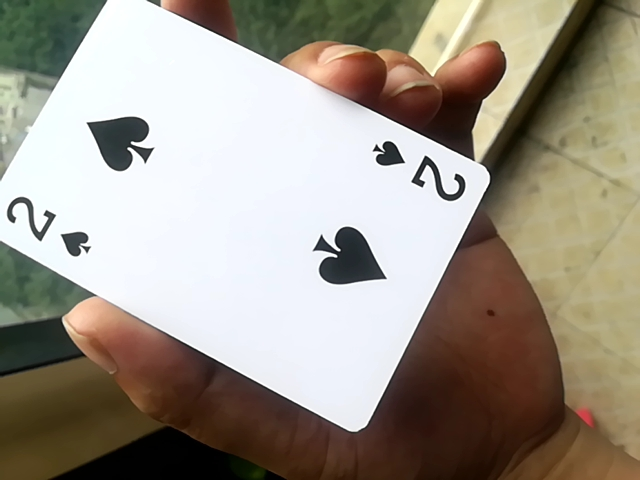ht 2: (0, 5, 494, 431)
